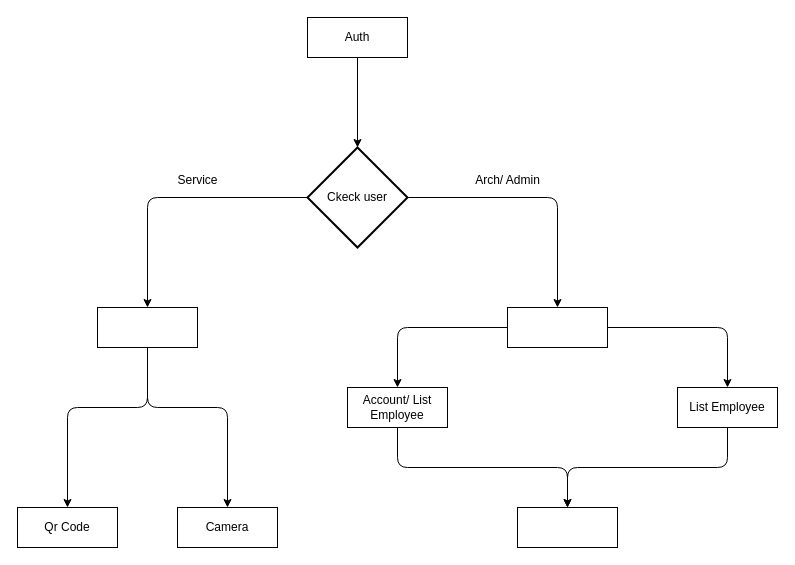
Some shapes in this 795 by 565 pixel diagram are drawn without their labels. The centre of each missing label's shape, as x and y in pixels:
"Add/ Edit/ Delete" goes at [567,527].
"Arch Screen/ Admin Screen" goes at [557,327].
"Service Screen" goes at [147,327].
